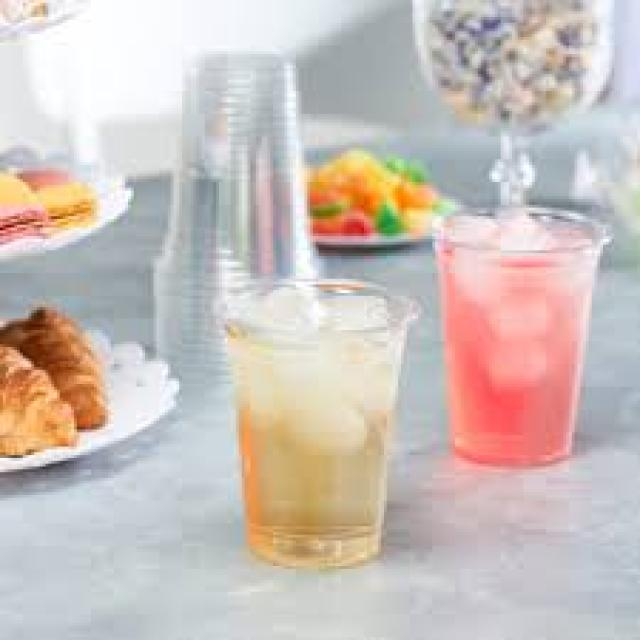cup: (411, 161, 620, 495), (222, 252, 411, 585)
